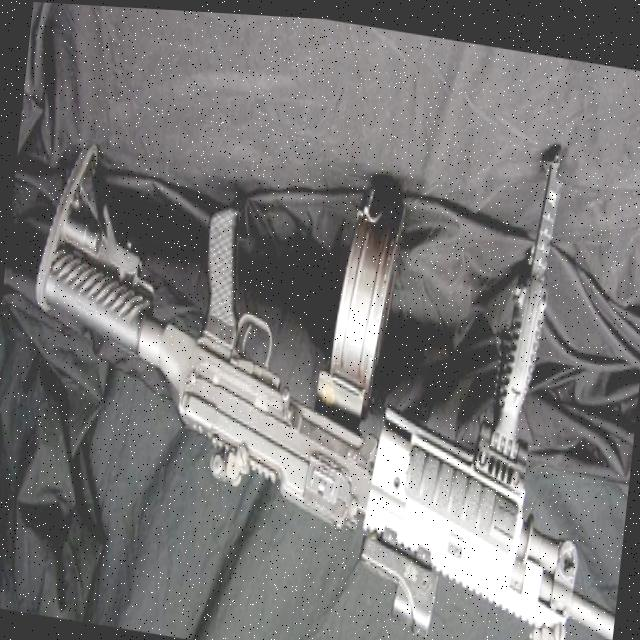firearm: (0, 50, 640, 640)
